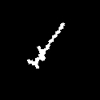double_crochet: (27, 23, 63, 67)
